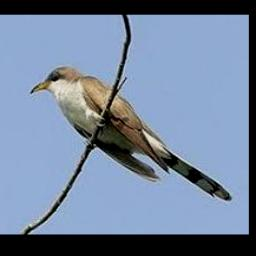Cuckoo: (32, 67, 232, 201)
